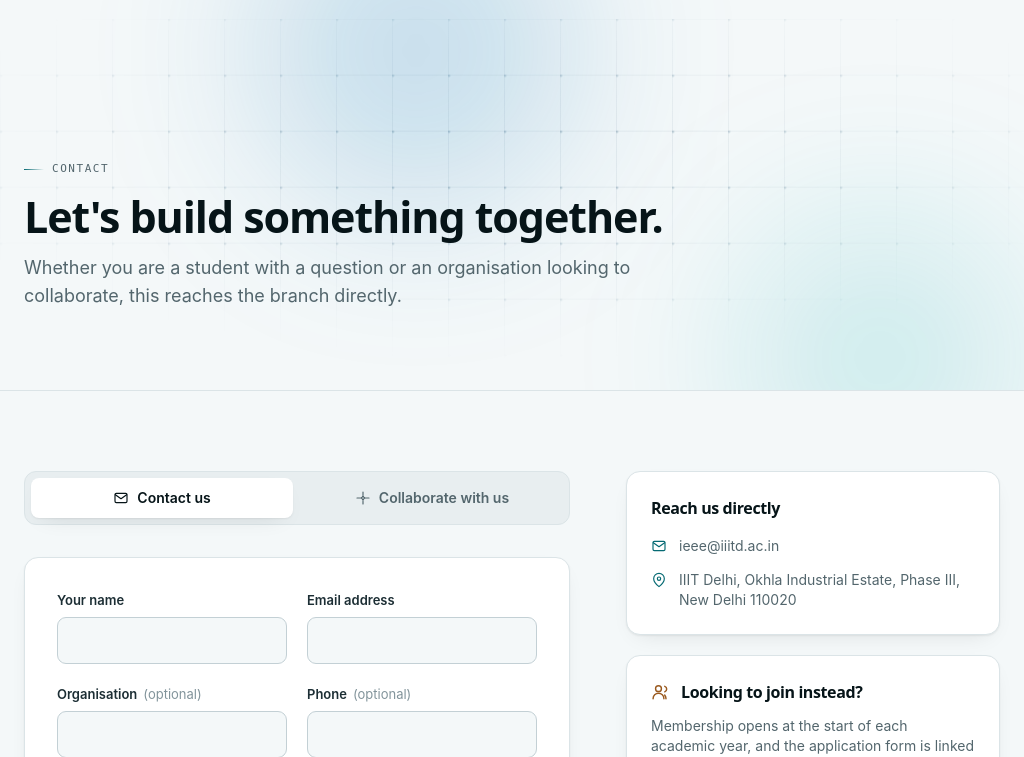
ContactPage › requires an organisation when collaborating
Click the tab "Collaborate with us" at [432, 498], box left=301, top=478, right=563, bottom=518
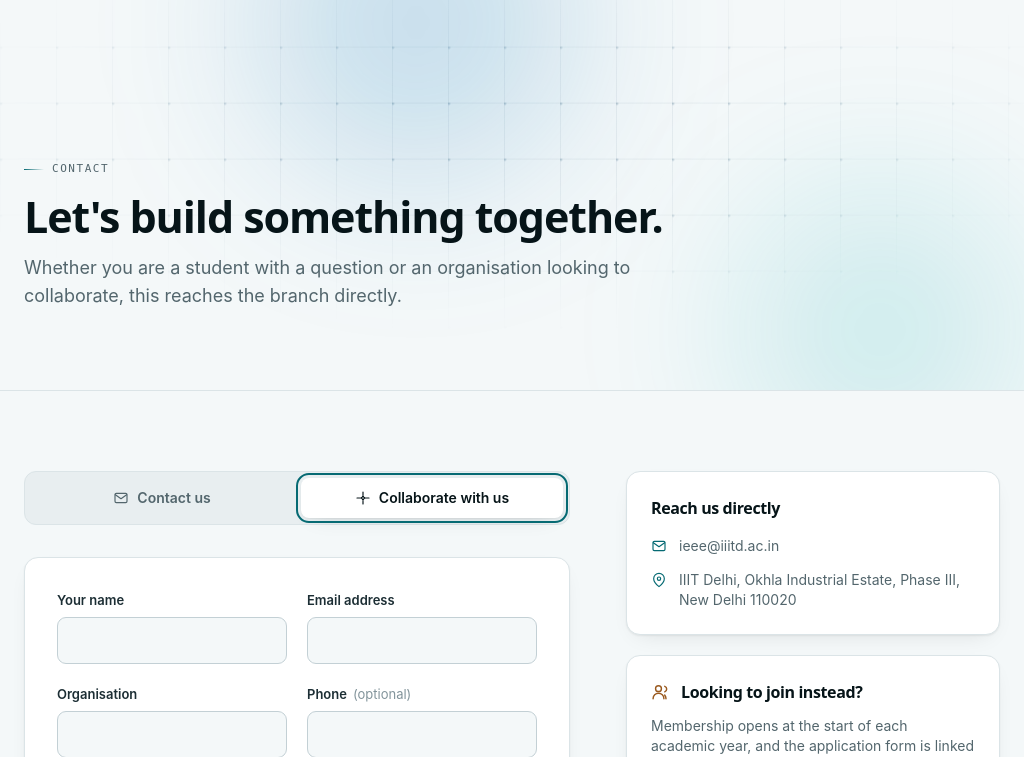
Type "Priya Sharma" into the field labelled "Your name" at [172, 640], box left=57, top=617, right=287, bottom=664
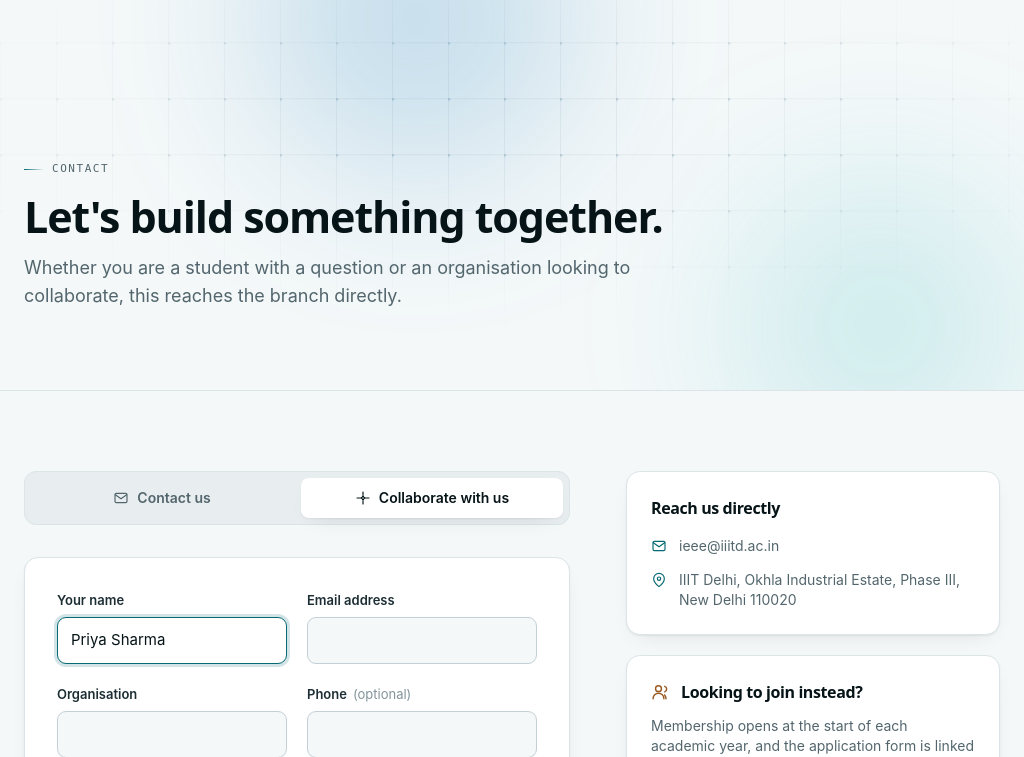
Type "priya@example.com" into the field labelled "Email address" at [422, 640], box left=307, top=617, right=537, bottom=664
(page scrolled)
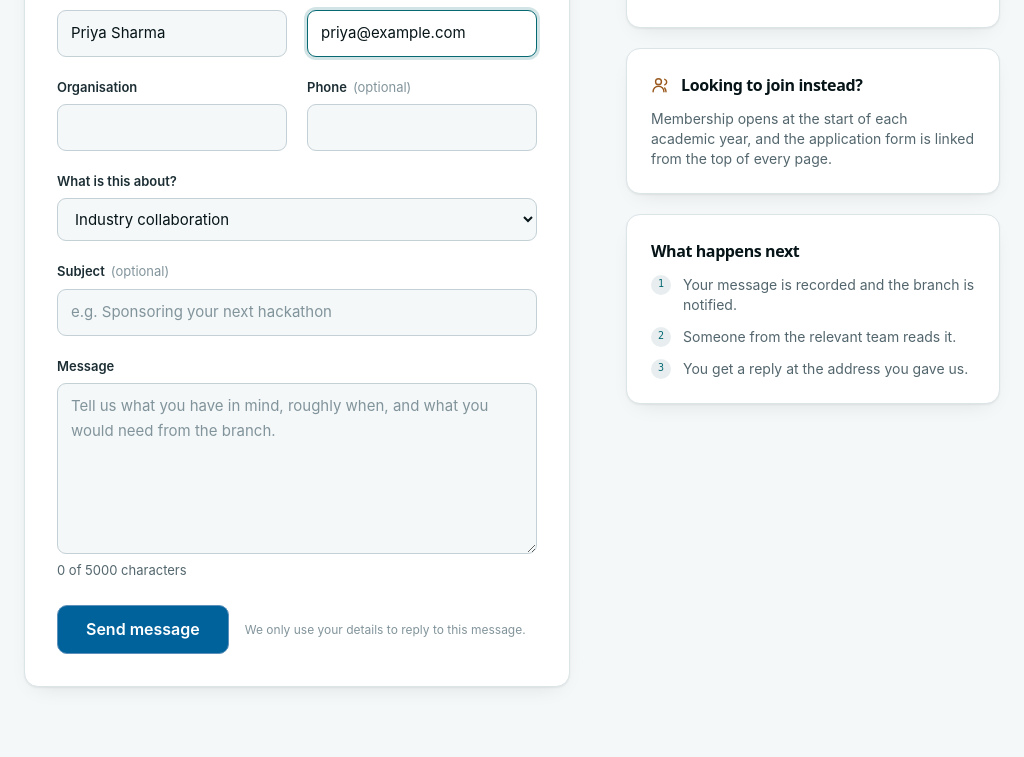
Type "We would like to run a workshop with your branch next semester." into the text box labelled "Message" at [297, 468], box left=57, top=383, right=537, bottom=554
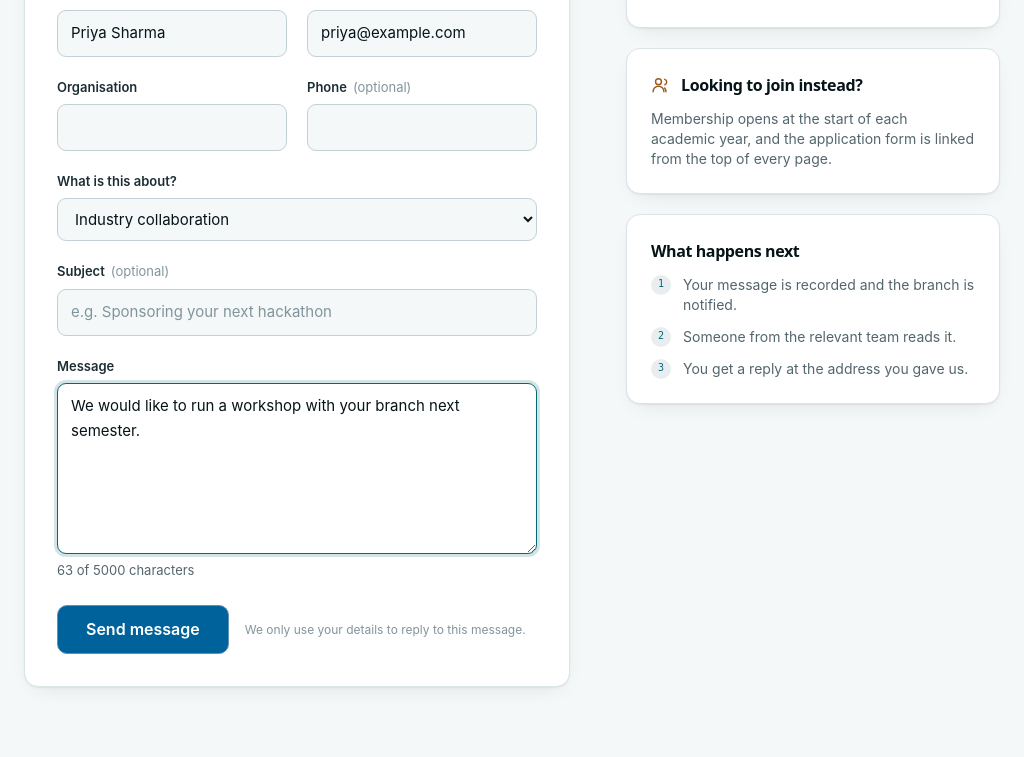
Click the button "Send message" at [143, 630], box left=57, top=605, right=229, bottom=654
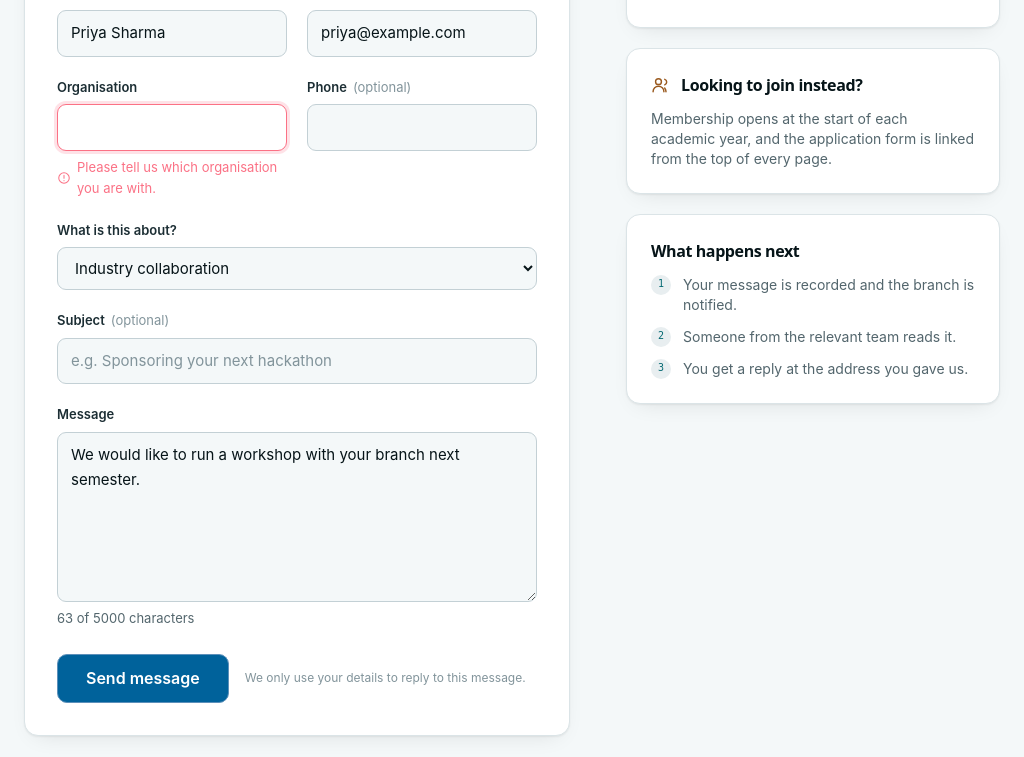
Result: the text "Please tell us which organisation you are with." is shown at left=57, top=157, right=287, bottom=200
